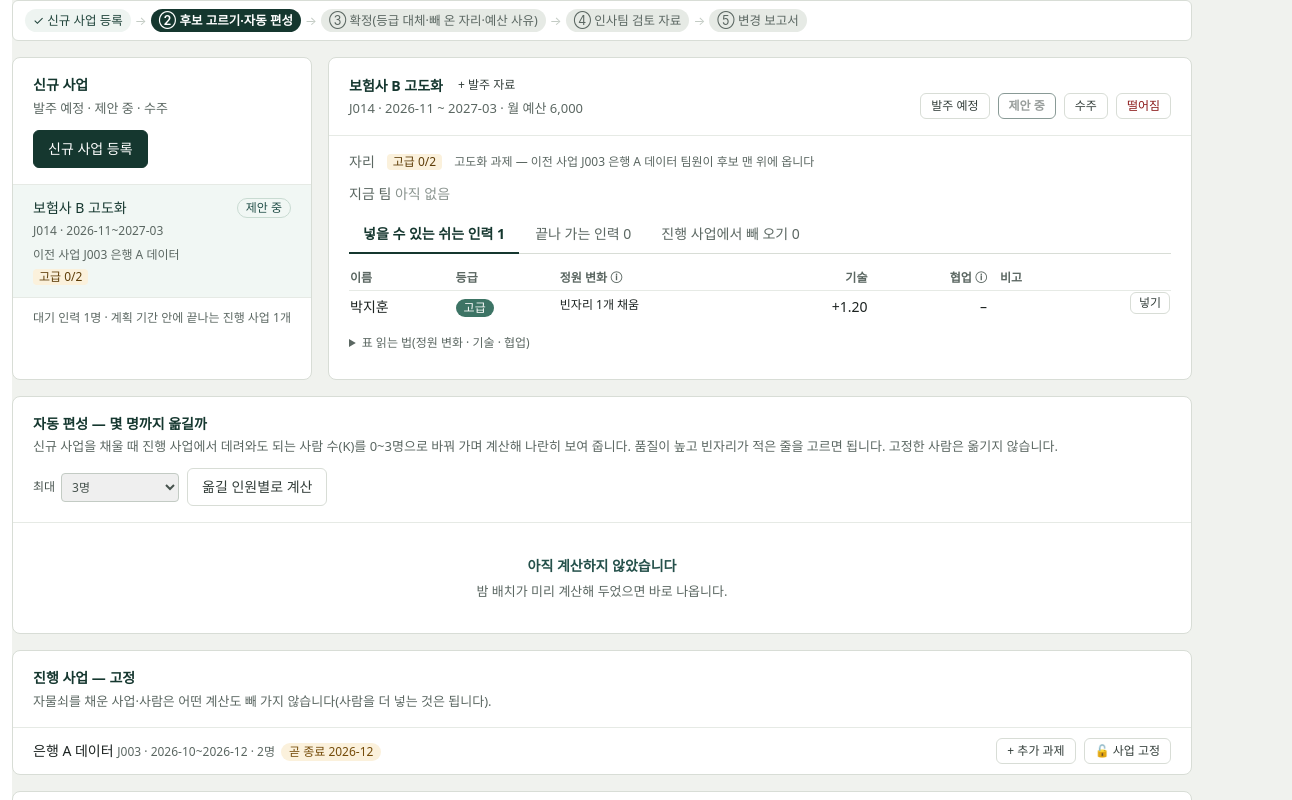
Test: NewProjectsScreen › 예전 편성 기록처럼 미리 계산이 K 0~3뿐이면 기본 최대 K는 3, 위반이 예상되는 넣기는 확정을 막는다(리뷰 S2·N6)
Check: the dropdown named "옮길 수 있는 최대 인원" shows "3명", box [61, 473, 179, 502]
Click the button with aria-label "박지훈 넣기" at x=1150, y=302, box [1130, 292, 1170, 314]
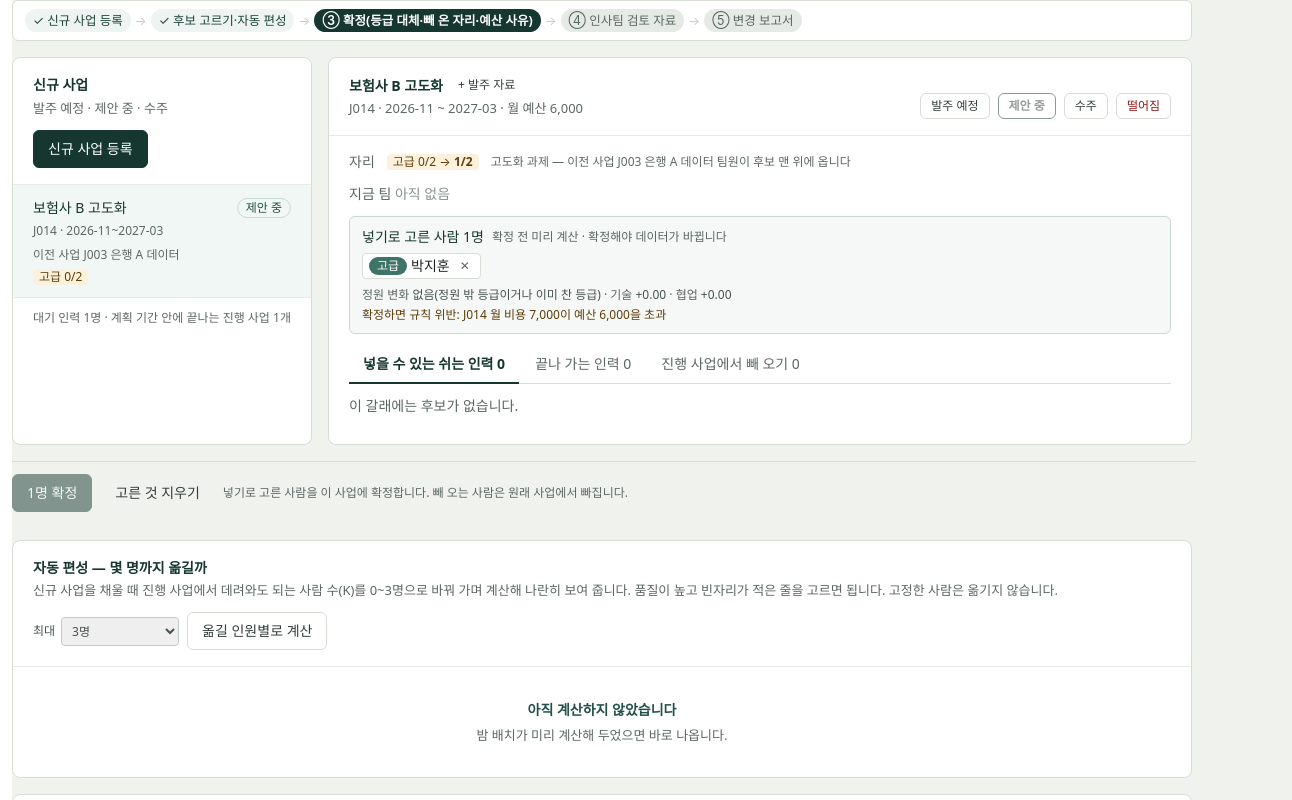
Check: the text "확정하면 규칙 위반: J014 월 비용 7,000이 예산 6,000을 초과" is shown, box [362, 306, 666, 322]
Check: the button "1명 확정" is disabled, box [12, 474, 92, 512]
